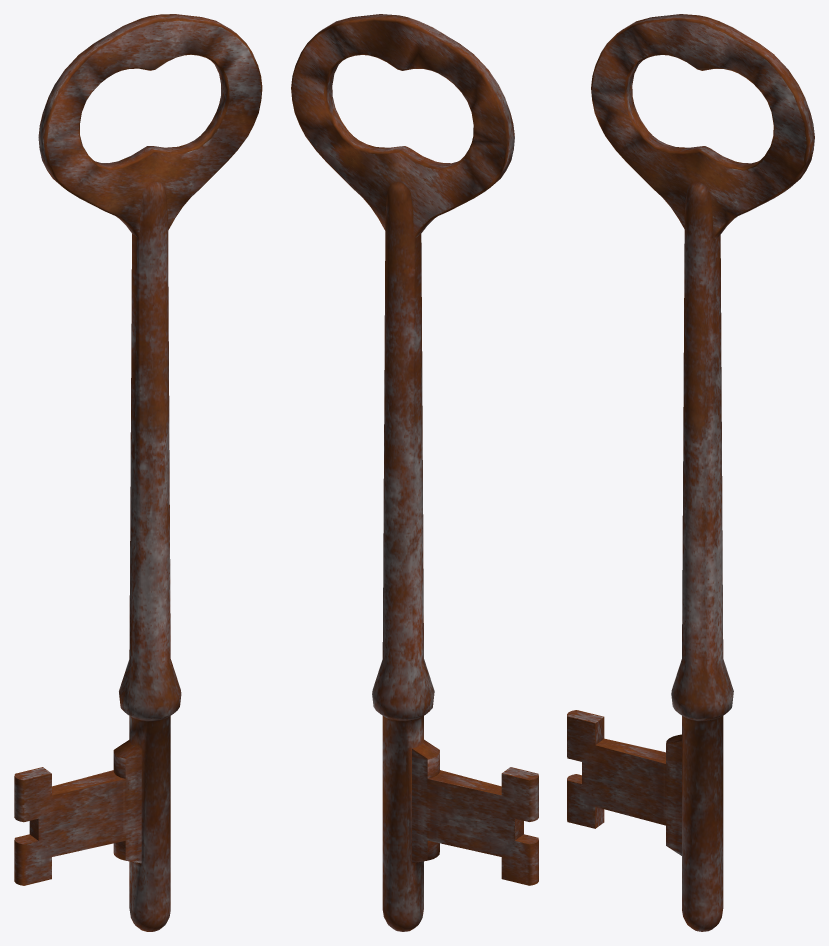
Rendered from key_02.glb.
3 views of the same model, side by side, from view 1: azimuth 30°, elevation 25°; view 2: azimuth 150°, elevation 25°; view 3: azimuth 330°, elevation 25° (orthographic).
Visible parts, largest first — view 1: Key; view 2: Key; view 3: Key.
Part boxes in pixels (x1,y1,x2,y2): Key: [14, 14, 262, 931]; Key: [291, 14, 538, 931]; Key: [567, 14, 814, 931].
Size of the model in its own units: 0.0224 by 0.08 by 0.00501.
1 material, 1 textured.
